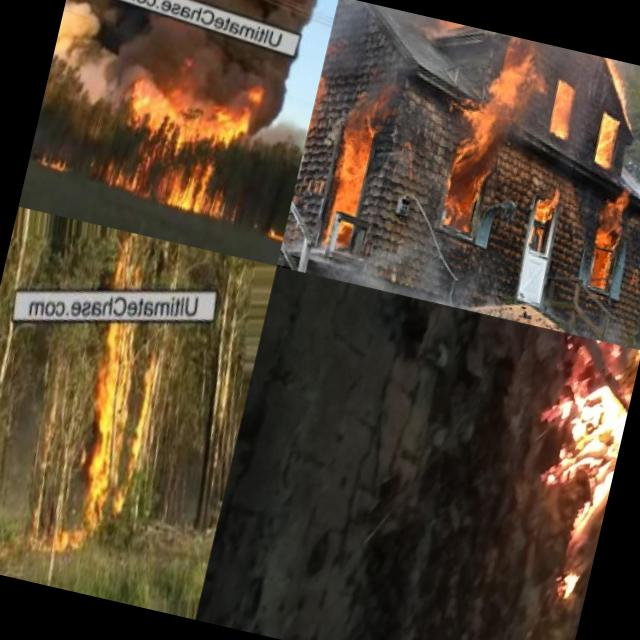fire: (507, 338, 640, 640), (58, 320, 176, 552), (107, 80, 259, 224), (438, 34, 544, 228), (318, 104, 385, 231), (578, 189, 640, 300), (542, 80, 580, 142), (591, 56, 640, 103), (588, 114, 622, 174), (527, 175, 566, 226), (31, 146, 69, 172), (262, 222, 286, 244)
smoke: (130, 27, 302, 132), (43, 0, 164, 117)
